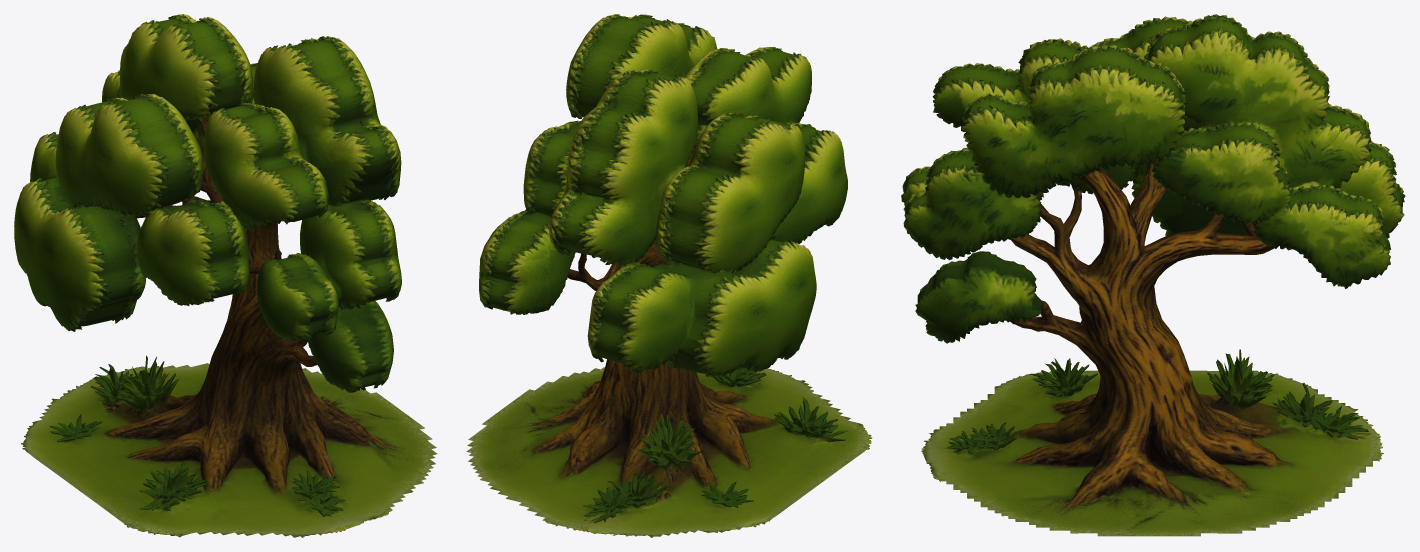
Rendered from tree3d3.glb.
The picture shows the model from 3 angles, left to right: view 1: azimuth 30°, elevation 25°; view 2: azimuth 150°, elevation 25°; view 3: azimuth 270°, elevation 25°; orthographic projection. The views are drawn at different scales.
Parts seen in each view (by area): view 1: tripo_node_5f3891ef-d596-41ab-97c8-ba30c5c0f9c5; view 2: tripo_node_5f3891ef-d596-41ab-97c8-ba30c5c0f9c5; view 3: tripo_node_5f3891ef-d596-41ab-97c8-ba30c5c0f9c5.
Boxes of the visible parts, box(x1,y1,x2,y2) form: tripo_node_5f3891ef-d596-41ab-97c8-ba30c5c0f9c5: box(14, 14, 437, 537); tripo_node_5f3891ef-d596-41ab-97c8-ba30c5c0f9c5: box(466, 14, 871, 537); tripo_node_5f3891ef-d596-41ab-97c8-ba30c5c0f9c5: box(901, 14, 1405, 536).
Bounding box in the file's own units: 0.7925 × 0.9365 × 1.
1 material, 1 textured.
